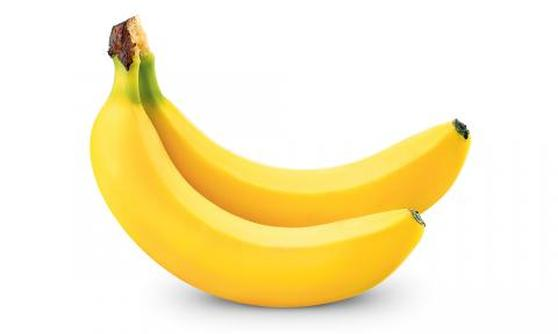banana: (72, 39, 427, 314)
